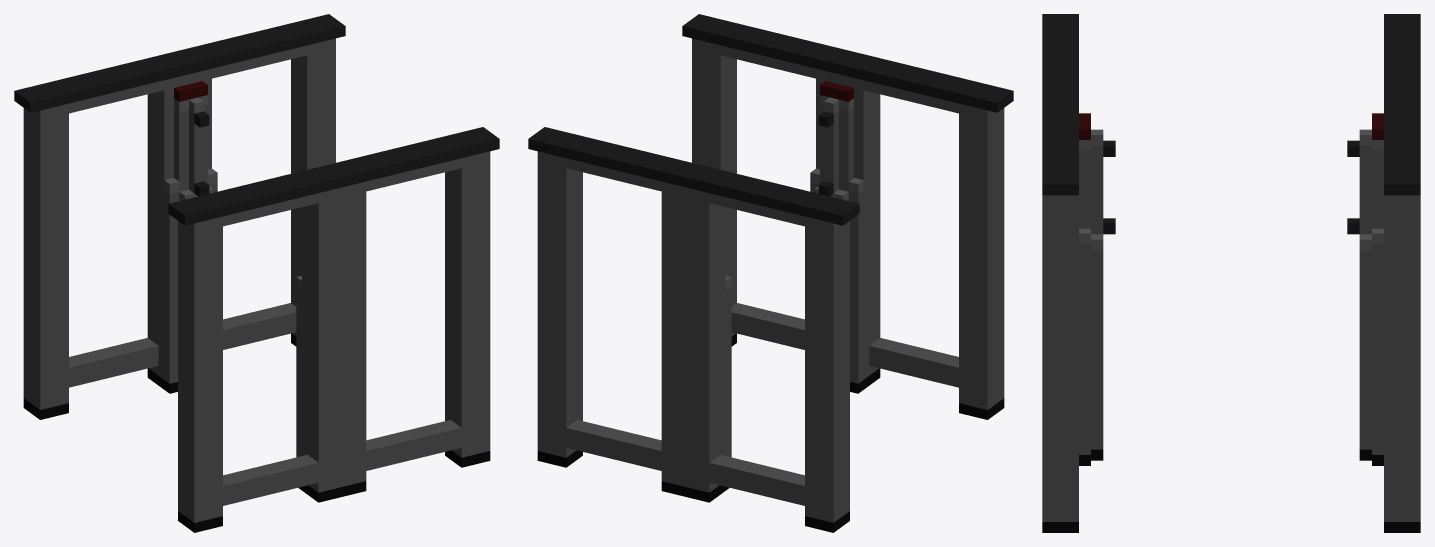
Rendered from konstytsia.obj.
3 views of the same model, side by side, from view 1: azimuth 30°, elevation 25°; view 2: azimuth 150°, elevation 25°; view 3: azimuth 270°, elevation 25° (orthographic). The views are drawn at different scales.
Bounding box in the file's own units: 3.3 × 3.2 × 3.1.
Materials: 1 (1 with a texture image).
